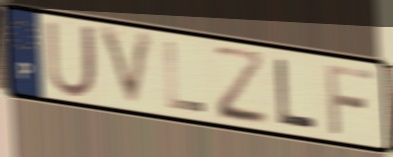F: (323, 61, 376, 138)
L: (162, 38, 208, 116), (273, 55, 319, 131)
U: (43, 17, 100, 101)
V: (96, 23, 158, 113)
Z: (209, 44, 271, 129)
